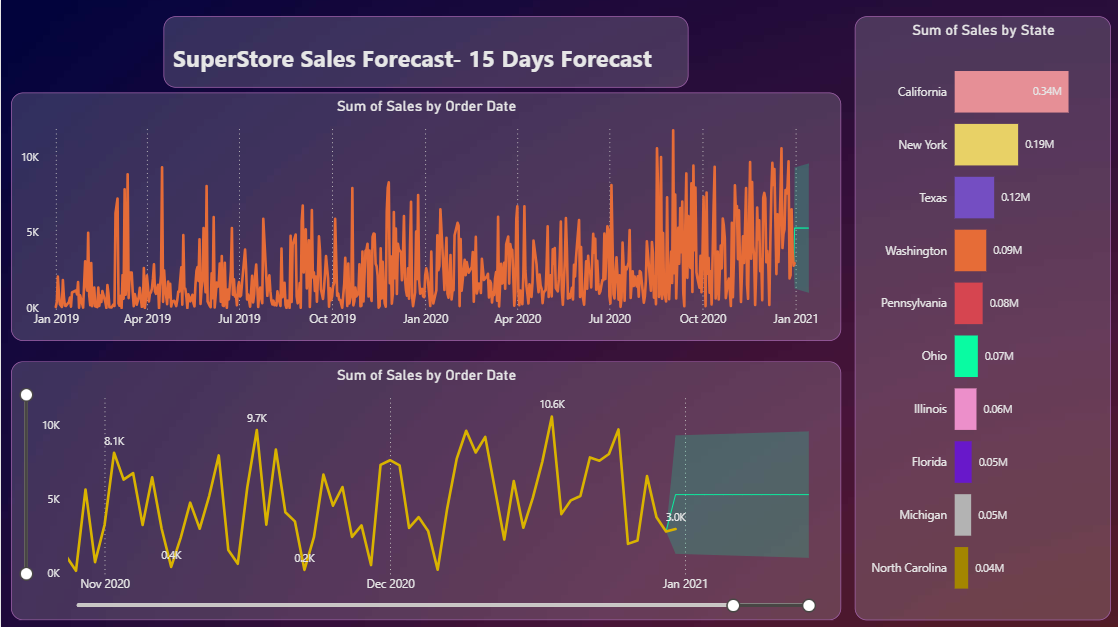

This screenshot's page, from the dashboard's own definition file:
{"tool":"powerbi","page":{"name":"Page 2","canvas":[1280,720],"ordinal":1},"visuals":[{"type":"lineChart","fields":{"Y":["Sum(SuperStore_Sales_Dataset.Sales)"],"Category":["SuperStore_Sales_Dataset.Order Date"]},"box":[11.4,105.7,948.6,284.3],"z":0},{"type":"lineChart","fields":{"Y":["Sum(SuperStore_Sales_Dataset.Sales)"],"Category":["SuperStore_Sales_Dataset.Order Date"]},"box":[11.4,412.9,948.6,295.7],"z":1000},{"type":"barChart","fields":{"Y":["Sum(SuperStore_Sales_Dataset.Sales)"],"Category":["SuperStore_Sales_Dataset.State"]},"box":[975.7,18.6,292.9,690],"z":2000},{"type":"textbox","box":[185.7,18.6,600,81.4],"z":3000}]}

Visuals, with their boxes in screenshot pixels (x1, y1, x2, y2), scaled from the page's 1280x720 canvas onto the 1118x627 screenshot:
lineChart - Sum(SuperStore_Sales_Dataset.Sales) x SuperStore_Sales_Dataset.Order Date: BBox(10, 92, 838, 340)
lineChart - Sum(SuperStore_Sales_Dataset.Sales) x SuperStore_Sales_Dataset.Order Date: BBox(10, 360, 838, 617)
barChart - Sum(SuperStore_Sales_Dataset.Sales) x SuperStore_Sales_Dataset.State: BBox(852, 16, 1108, 617)
textbox: BBox(162, 16, 686, 87)
